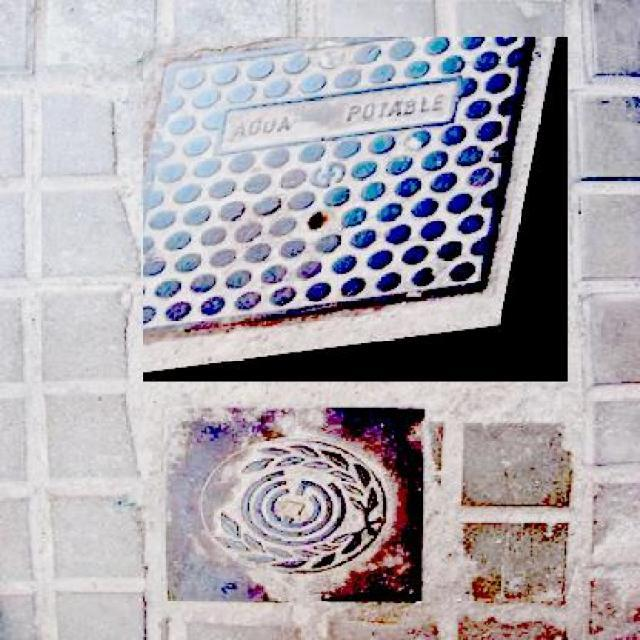Manhole: (143, 36, 568, 382), (164, 402, 423, 606)
